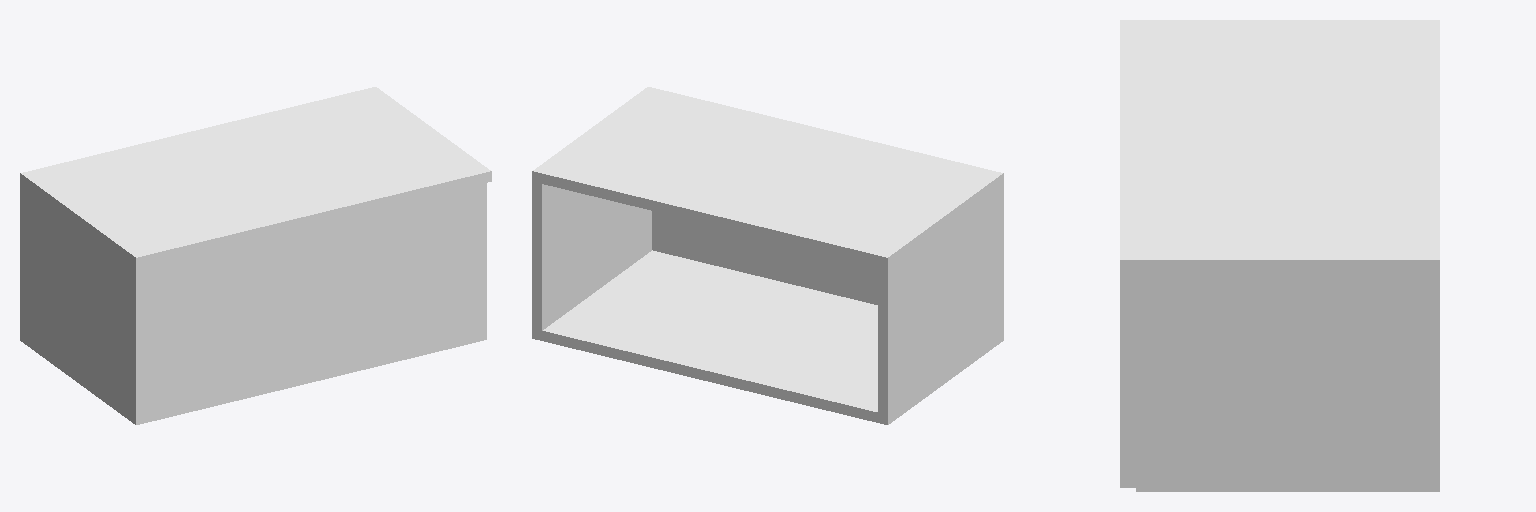
URDF robot description (bottom_right_table):
<?xml version="1.0" ?>
<robot name="bottom_right_table">
 <link name="baseLink">
   <contact>
     <lateral_friction value="0.5"/>
   </contact>
   <inertial>
     <origin rpy="0 0 0" xyz="0.355063 0.161921 0.899693"/>
      <mass value="1.0"/>
      <inertia ixx="0.000715" ixy="-0.000003" ixz="0.000000" iyy="0.001669" iyz="0.000001" izz="0.001690"/>
   </inertial>
   <visual>
     <origin rpy="0 0 0" xyz="0 0 0"/>
     <geometry>
       <mesh filename="bottom_right_table.obj" scale="1.0 1.0 1.0"/>
     </geometry>
      <material name="white">
       <color rgba="1 1 1 1"/>
     </material>
   </visual>
   <collision>
     <origin rpy="0 0 0" xyz="0 0 0"/>
     <geometry>
       <mesh filename="bottom_right_table_vhacd2.obj" scale="1.0 1.0 1.0"/>
     </geometry>
   </collision>
 </link>
</robot>

--- Render facts (derived) ---
Views: 3 orthographic renders of the robot side by side, from view 1: azimuth 30°, elevation 25°; view 2: azimuth 150°, elevation 25°; view 3: azimuth 270°, elevation 25°.
Model bottom_right_table with 1 links and 0 joints (none), rooted at baseLink, posed every joint at zero.
Visible links, largest first — view 1: baseLink; view 2: baseLink; view 3: baseLink.
Link boxes in pixels (box(x1,y1,x2,y2)): baseLink: box(20, 87, 491, 424); baseLink: box(532, 87, 1003, 424); baseLink: box(1120, 20, 1439, 491).
Bounding box of the posed robot: 0.71 × 0.4 × 0.32 m (x, y, z).
Meshes: 1 distinct files referenced, 1 mesh visuals loaded (1 OBJ).